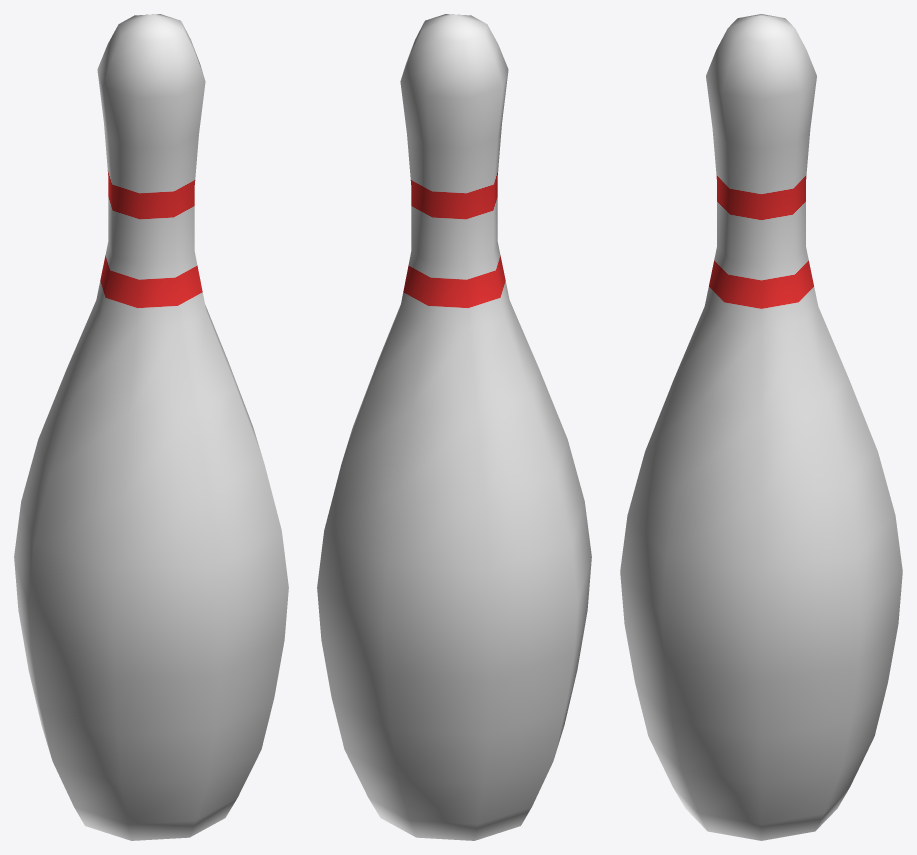
The model's file is MEC0110023.fbx.
3 views of the same model, side by side, from view 1: azimuth 30°, elevation 25°; view 2: azimuth 150°, elevation 25°; view 3: azimuth 270°, elevation 25° (orthographic).
Visible parts, largest first — view 1: smMEC0110023; view 2: smMEC0110023; view 3: smMEC0110023.
Boxes of the visible parts, left/top/right/bottom form: smMEC0110023: left=14, top=14, right=288, bottom=840; smMEC0110023: left=317, top=14, right=591, bottom=840; smMEC0110023: left=620, top=14, right=902, bottom=840.
Size of the model in its own units: 55.47 by 171 by 55.09.
1 material, 1 textured.
